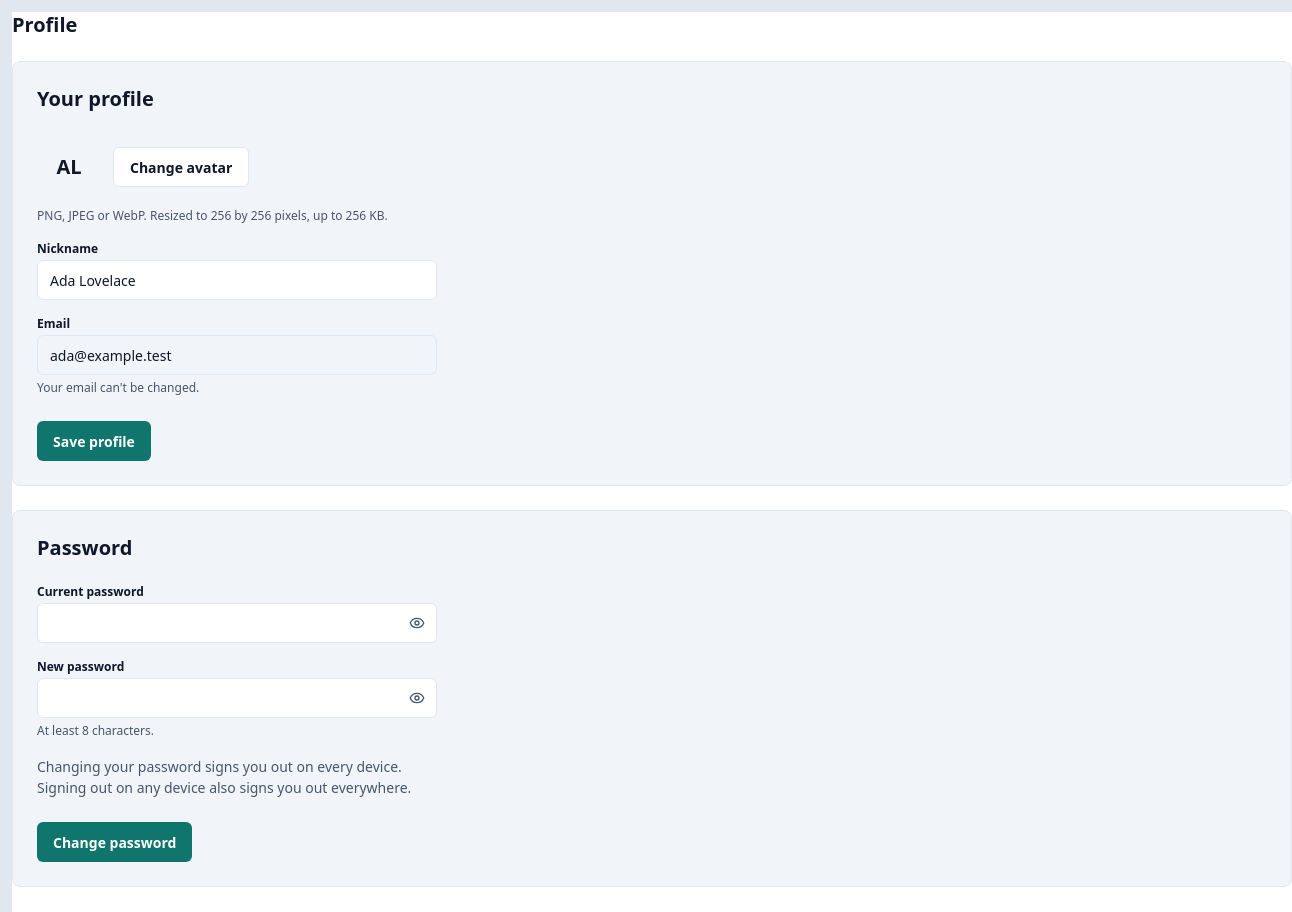
Scenario: profile page (UI-34) › saves only the edited nickname, updates the store and the cached user without a reload and toasts
Replace the text in the field labelled "Nickname" with "  Grace Hopper " at (237, 280), box [37,260,437,300]
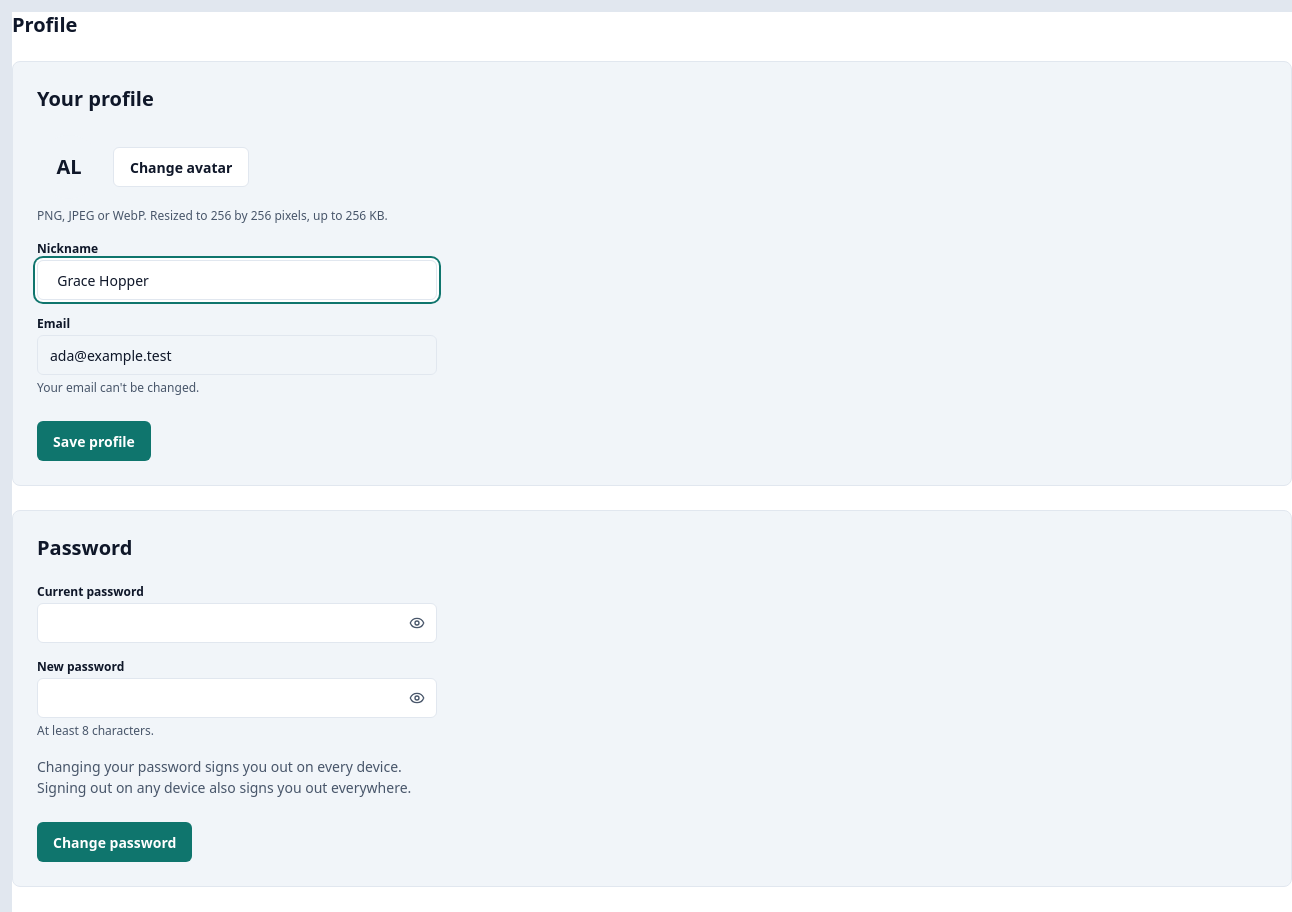
Click the button "Save profile" at (94, 441), box [37,421,151,461]
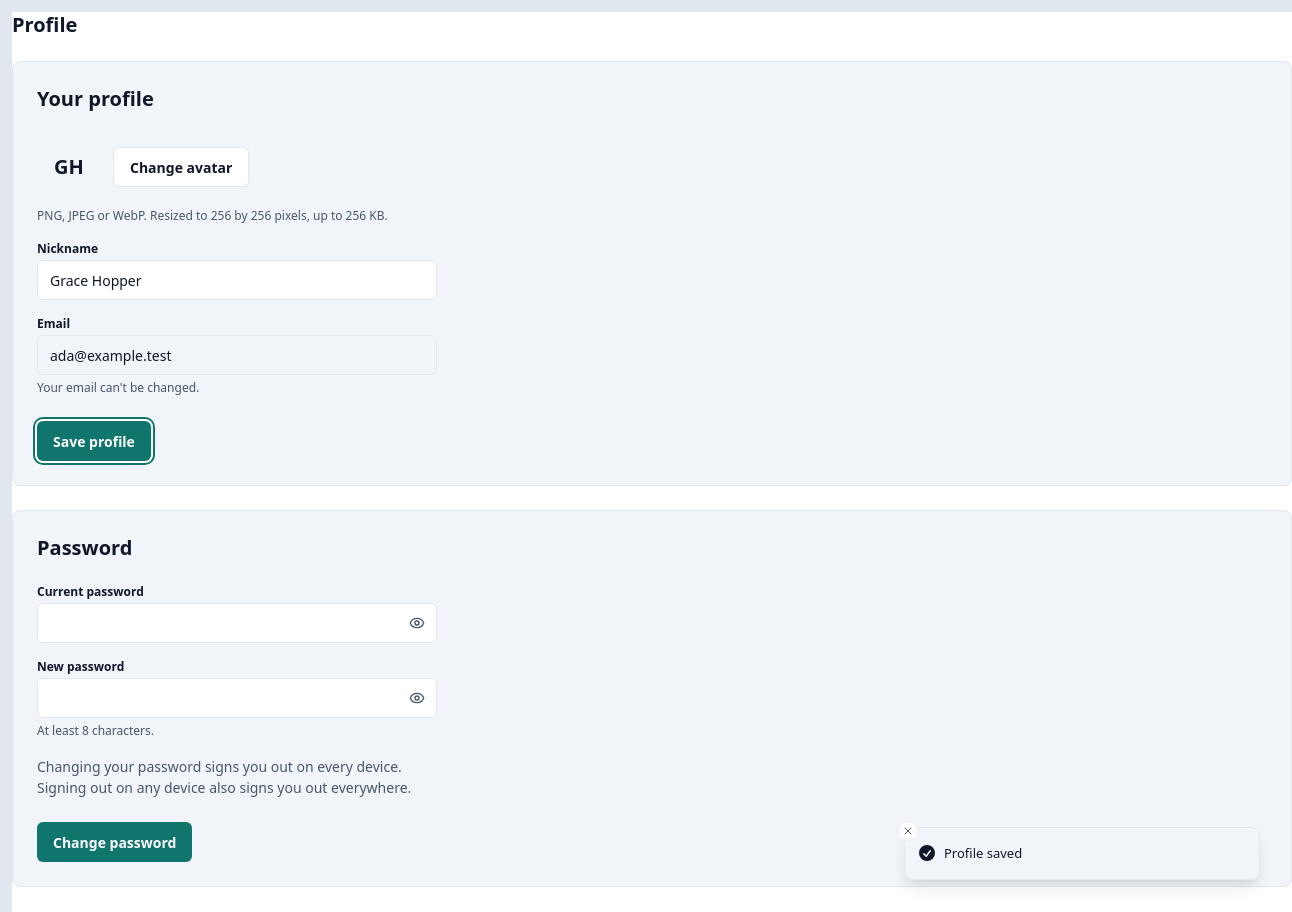
Check: the text "Profile saved" is shown, box [944,844,1022,863]
